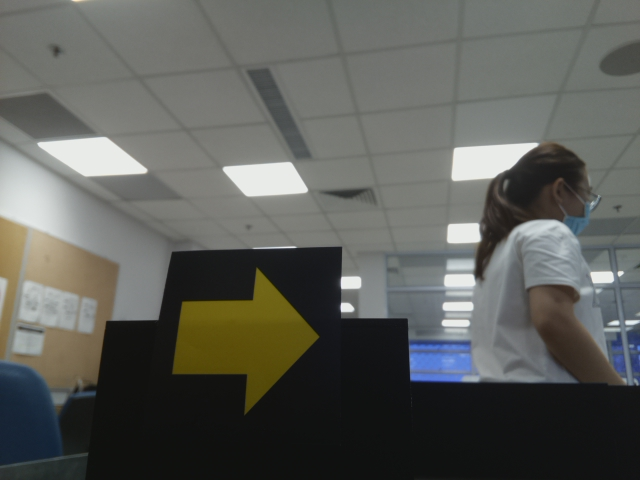right: (165, 258, 318, 427)
